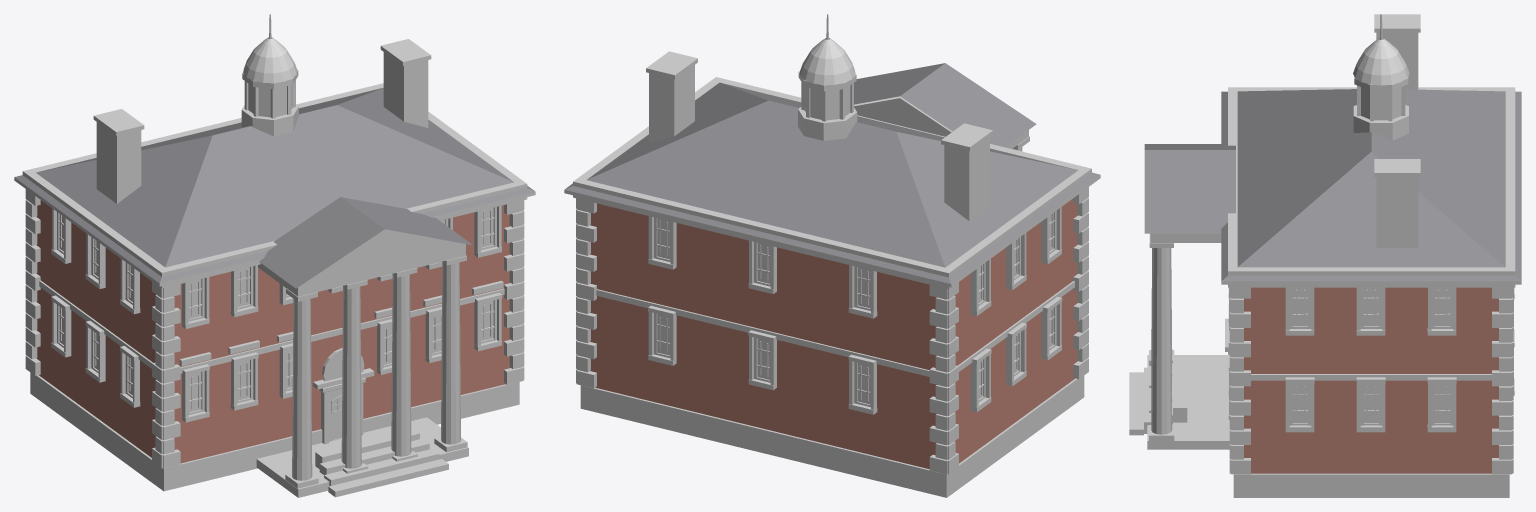
The model's file is lm_uconn.full.glb.
3 views of the same model, side by side, from view 1: azimuth 30°, elevation 25°; view 2: azimuth 150°, elevation 25°; view 3: azimuth 270°, elevation 25° (orthographic). The views are drawn at different scales.
Visible parts, largest first — view 1: lm_uconn; view 2: lm_uconn; view 3: lm_uconn.
Boxes of the visible parts, x1=… form: lm_uconn: x1=14, y1=14, x2=535, y2=497; lm_uconn: x1=564, y1=14, x2=1100, y2=497; lm_uconn: x1=1129, y1=14, x2=1521, y2=497.
Bounding box in the file's own units: 24.32 × 23.56 × 21.27.
